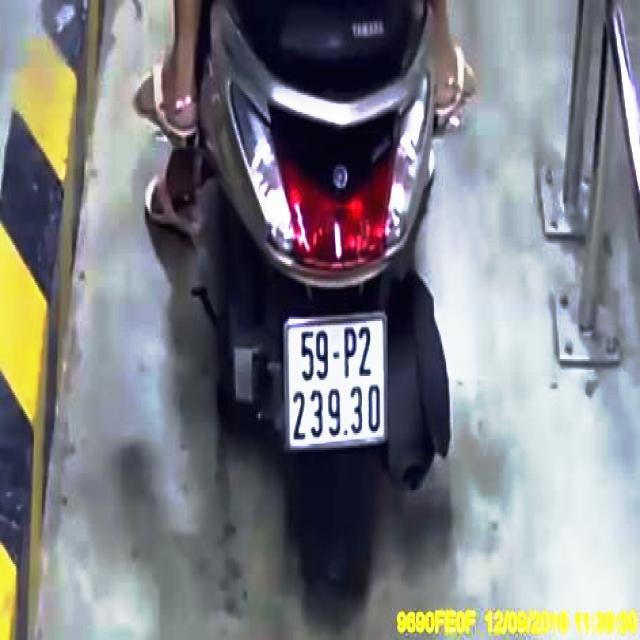license_plate: (287, 312, 388, 447)
